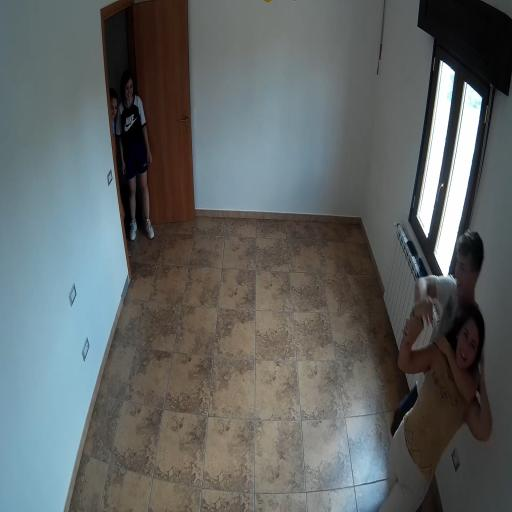violencia: (381, 221, 502, 512)
